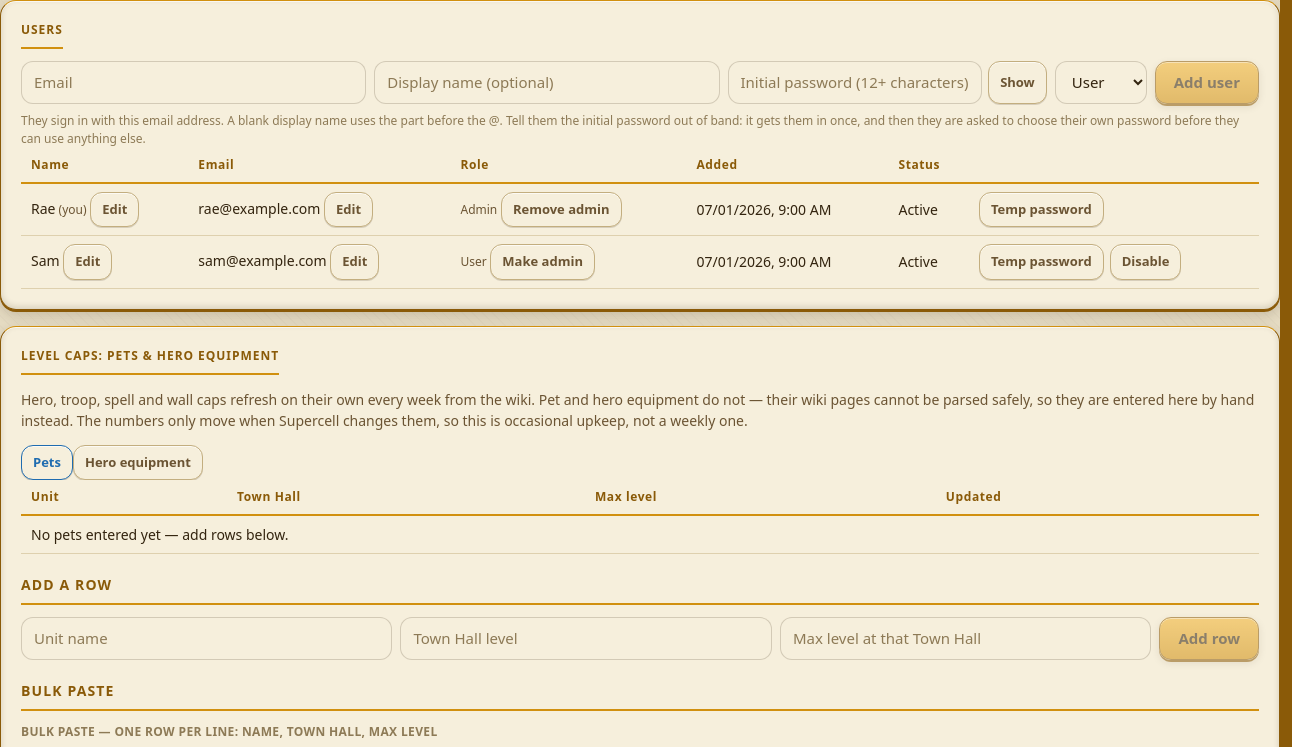
Scenario: changing a role › surfaces the last-active-admin refusal at the row that caused it
expect the text "Rae" is shown: met, box [31,198,56,218]
expect the text "Sam" is shown: met, box [31,251,60,270]
Click the button "Remove admin" at x=561, y=209, box [501,192,622,227]
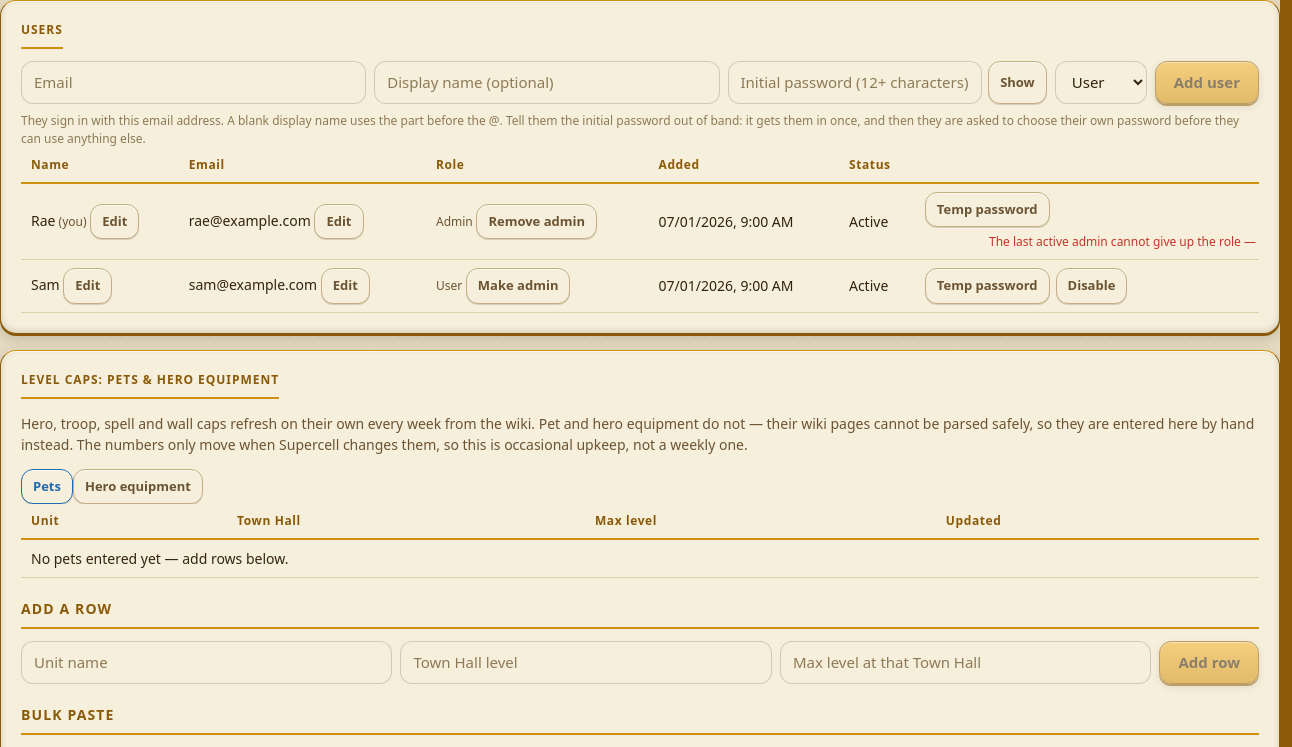
expect the text "The last active admin cannot give up the role — promote somebody else first." shows "Rae": met, box [31,210,56,230]
expect the text "The last active admin cannot give up the role — promote somebody else first." is shown: met, box [989,233,1259,250]
